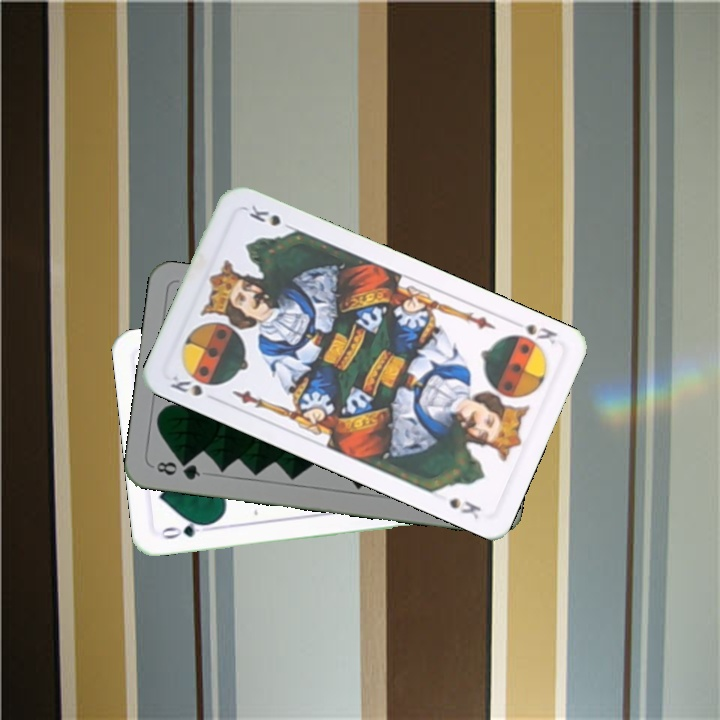G8: (149, 457, 203, 483)
GO: (157, 517, 215, 542)
SK: (506, 315, 560, 347), (166, 369, 219, 399)
